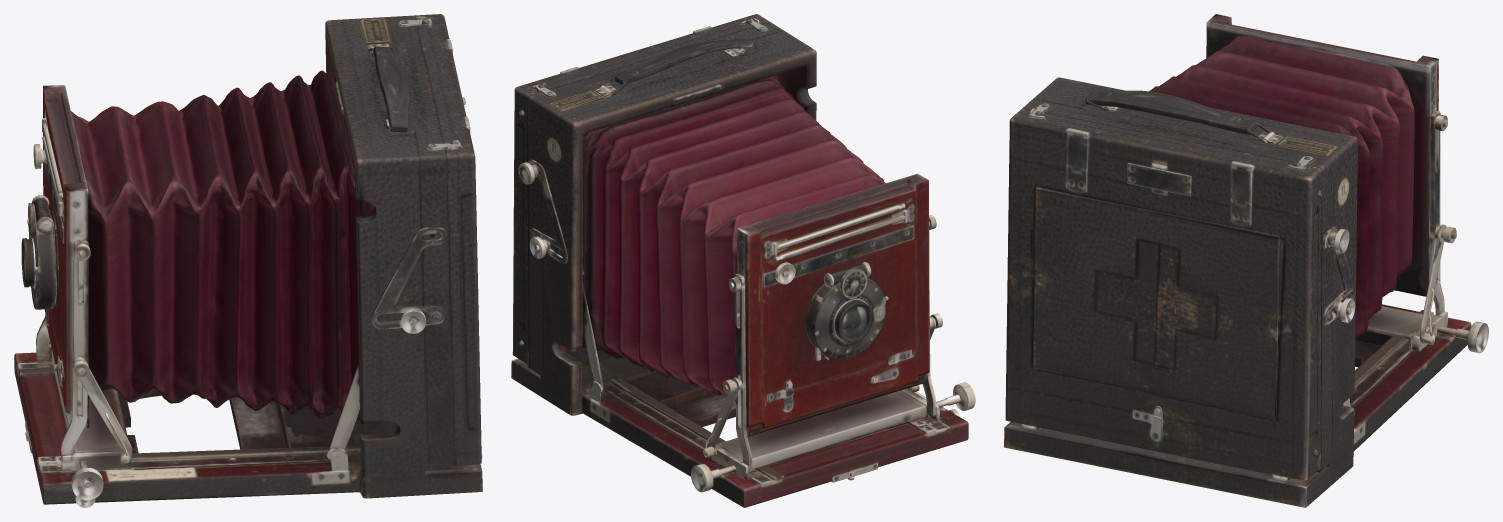
Rendered from Mieczysław_Karłowiczs_camera.rapid.glb.
The picture shows the model from 3 angles, left to right: view 1: azimuth 30°, elevation 25°; view 2: azimuth 150°, elevation 25°; view 3: azimuth 270°, elevation 25°; orthographic projection. The views are drawn at different scales.
Bounding box in the file's own units: 2.15 × 1.62 × 2.
Materials: 1 (1 with a texture image).
